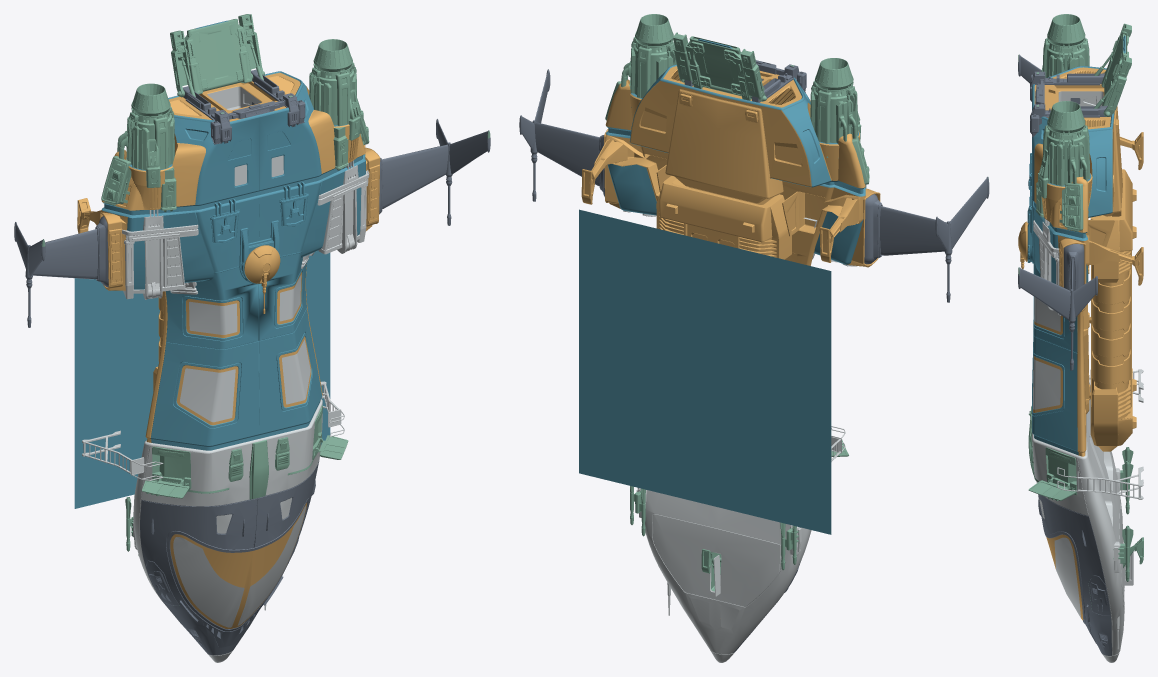
Rendered from SUP_Futuristic_Spaceship.glb.
The picture shows the model from 3 angles, left to right: view 1: azimuth 30°, elevation 25°; view 2: azimuth 150°, elevation 25°; view 3: azimuth 270°, elevation 25°; orthographic projection. The views are drawn at different scales.
Visible parts, largest first — view 1: SUP_Futuristic_Spaceship; view 2: SUP_Futuristic_Spaceship; view 3: SUP_Futuristic_Spaceship.
Part boxes in pixels (x1=…): SUP_Futuristic_Spaceship: x1=14, y1=14, x2=490, y2=662; SUP_Futuristic_Spaceship: x1=519, y1=14, x2=989, y2=662; SUP_Futuristic_Spaceship: x1=1018, y1=14, x2=1143, y2=662.
Bounding box in the file's own units: 11.25 × 15.16 × 2.79.
